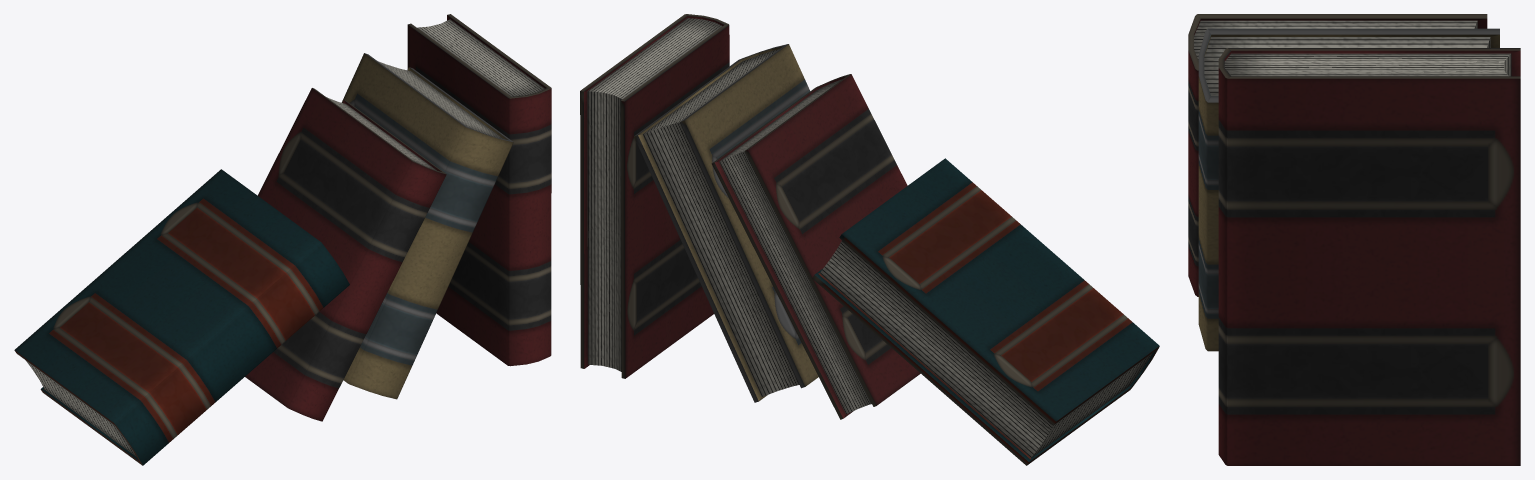
Rendered from CI_071_books_tilted_reversed.glb.
3 views of the same model, side by side, from view 1: azimuth 30°, elevation 25°; view 2: azimuth 150°, elevation 25°; view 3: azimuth 270°, elevation 25° (orthographic). The views are drawn at different scales.
Visible parts, largest first — view 1: book_4, book_2, book_1, book_3; view 2: book_4, book_1, book_2, book_3; view 3: book_1, book_3, book_2.
Boxes of the visible parts, left/top/right/bottom form: book_4: left=14, top=169, right=349, bottom=465; book_2: left=245, top=88, right=446, bottom=421; book_1: left=407, top=14, right=551, bottom=366; book_3: left=341, top=53, right=513, bottom=399; book_4: left=812, top=158, right=1159, bottom=465; book_1: left=580, top=14, right=729, bottom=378; book_2: left=711, top=74, right=920, bottom=419; book_3: left=634, top=44, right=818, bottom=402; book_1: left=1218, top=48, right=1520, bottom=465; book_3: left=1198, top=28, right=1499, bottom=351; book_2: left=1188, top=14, right=1487, bottom=296.
Size of the model in its own units: 1.3 by 0.7422 by 0.575.
Materials: 1 (1 with a texture image).
